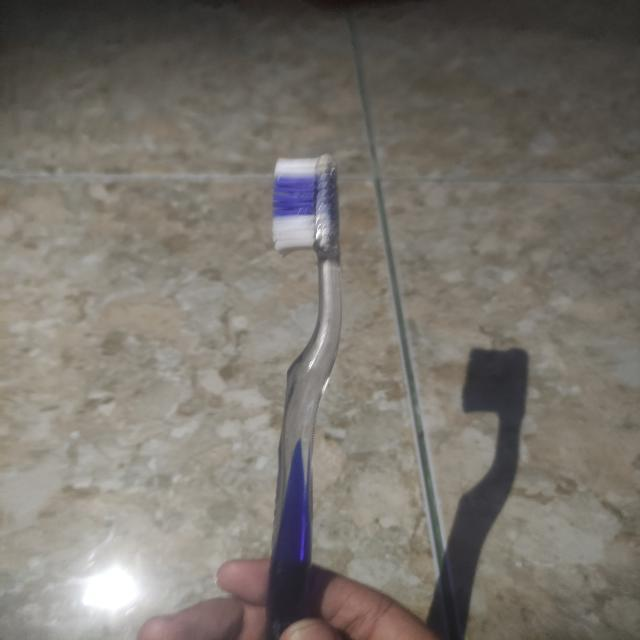toothbrush: (248, 149, 356, 639)
